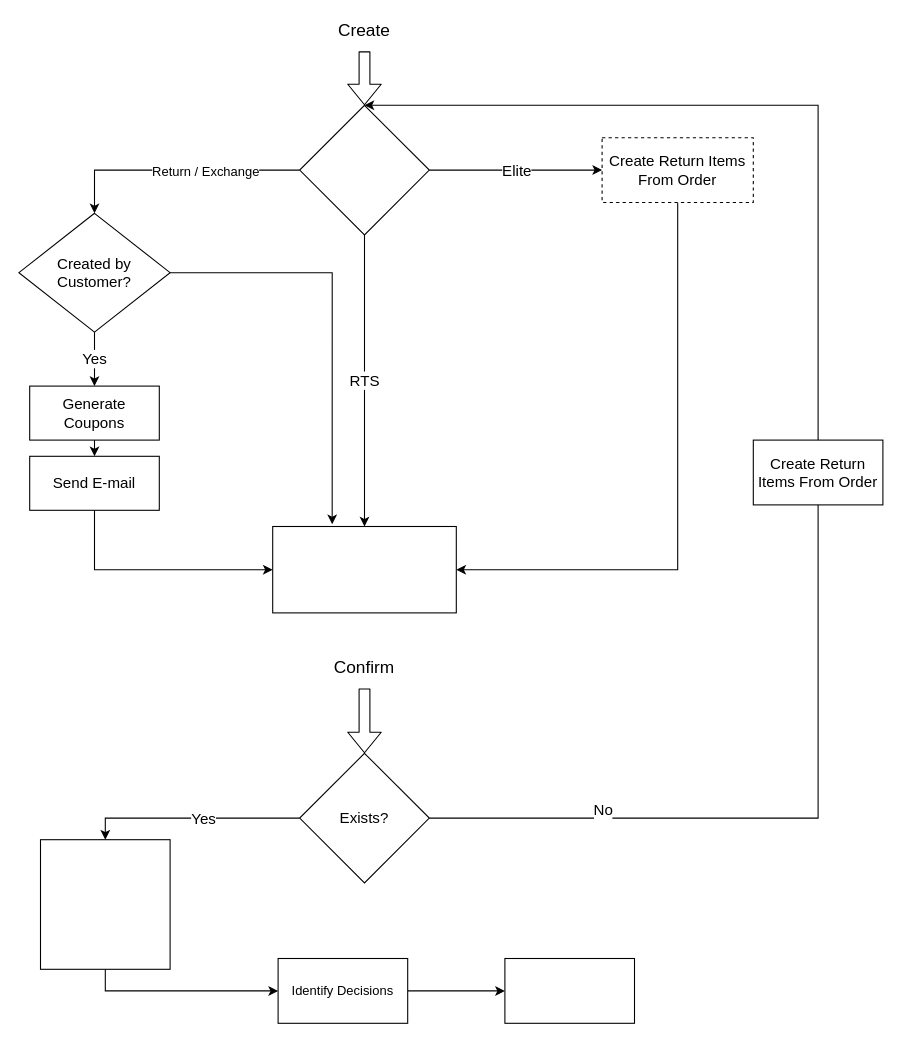
Some shapes in this 902 by 1042 pixel diagram are drawn without their labels. The shapes that lost their labels are listed below. From the top down, each one's centre as x and y in pixels, then its label:
At point 364,169: "What Type?".
At point 364,569: "Identify Product Class (Bra / Panty etc.)".
At point 104,904: "Match returned items with warehouse confirmed returned items".
At point 569,990: "Apply decision (refund/charge etc)".
